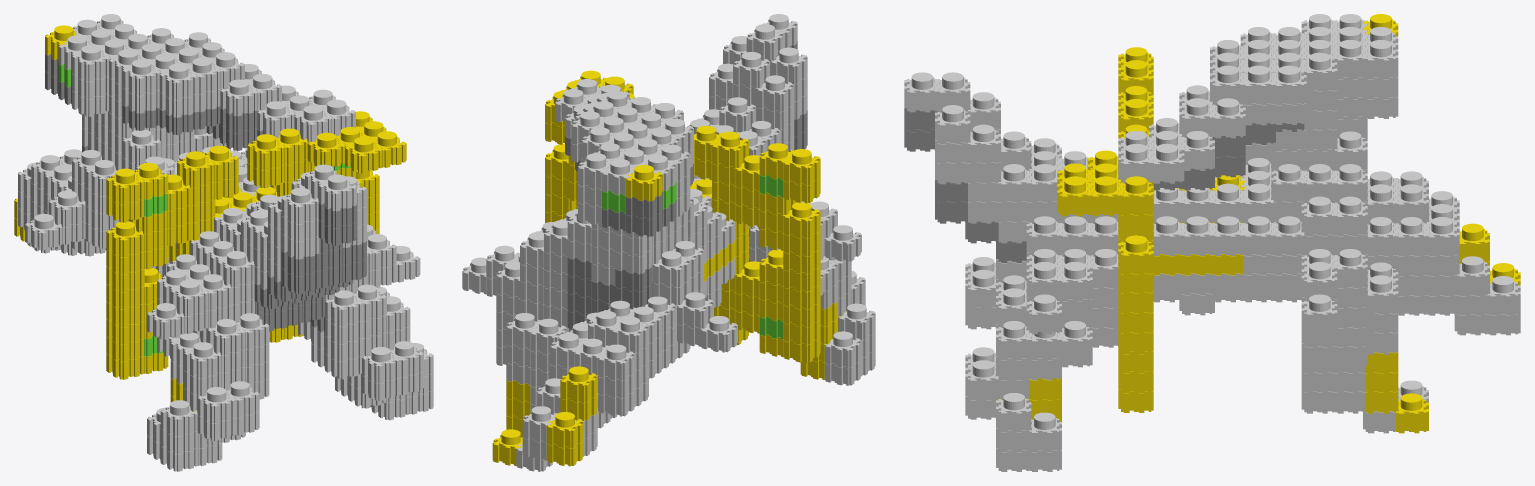
File: Arceus.glb
3 renders of one model, left to right at view 1: azimuth 30°, elevation 25°; view 2: azimuth 150°, elevation 25°; view 3: azimuth 270°, elevation 25°, orthographic. The views are drawn at different scales.
Bounding box in the file's own units: 7.7 × 8.53 × 13.91.
